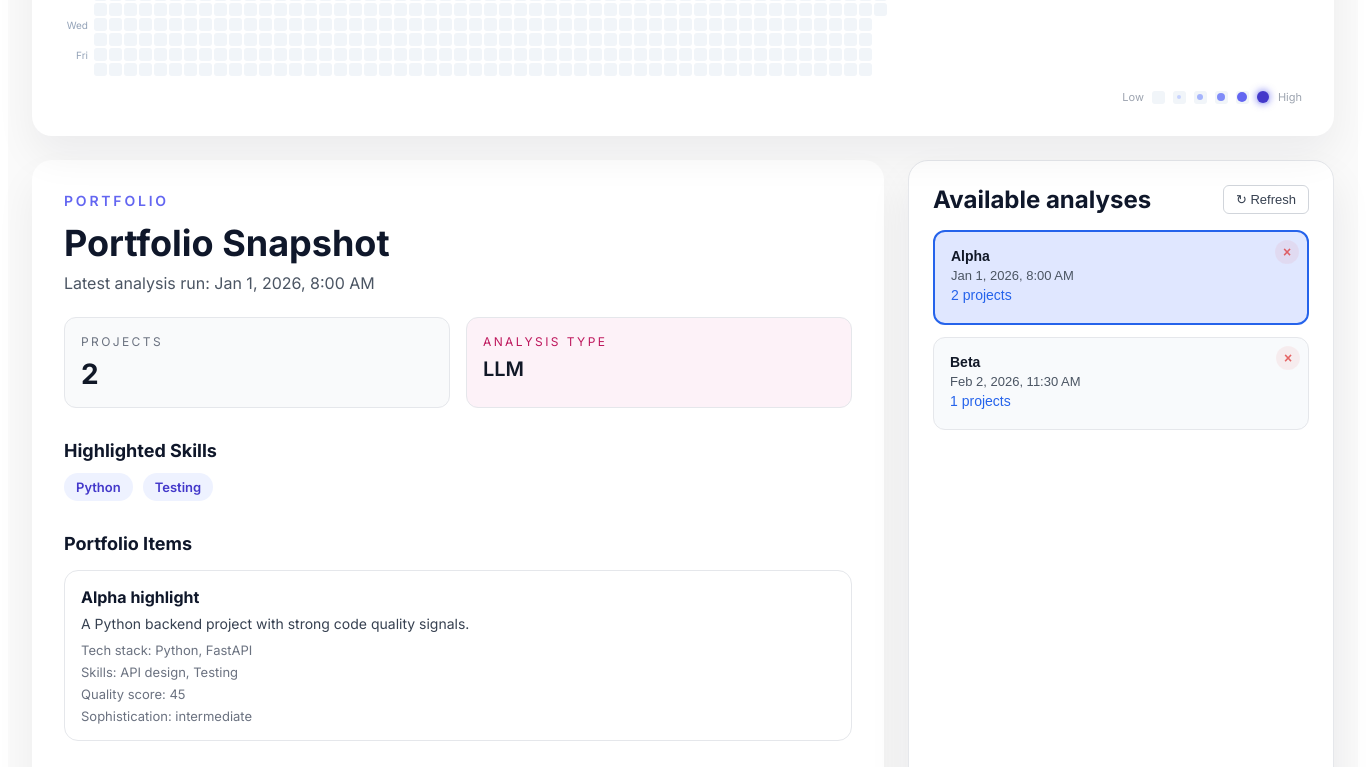
Test: Portfolio page › loads detail for another portfolio when selected
(page scrolled)
Expected: the text "Alpha highlight" is shown, [81, 587, 199, 607]
Step 1. Click the button with test id "portfolio-card-run-2" → (965, 362), box [934, 338, 1308, 429]
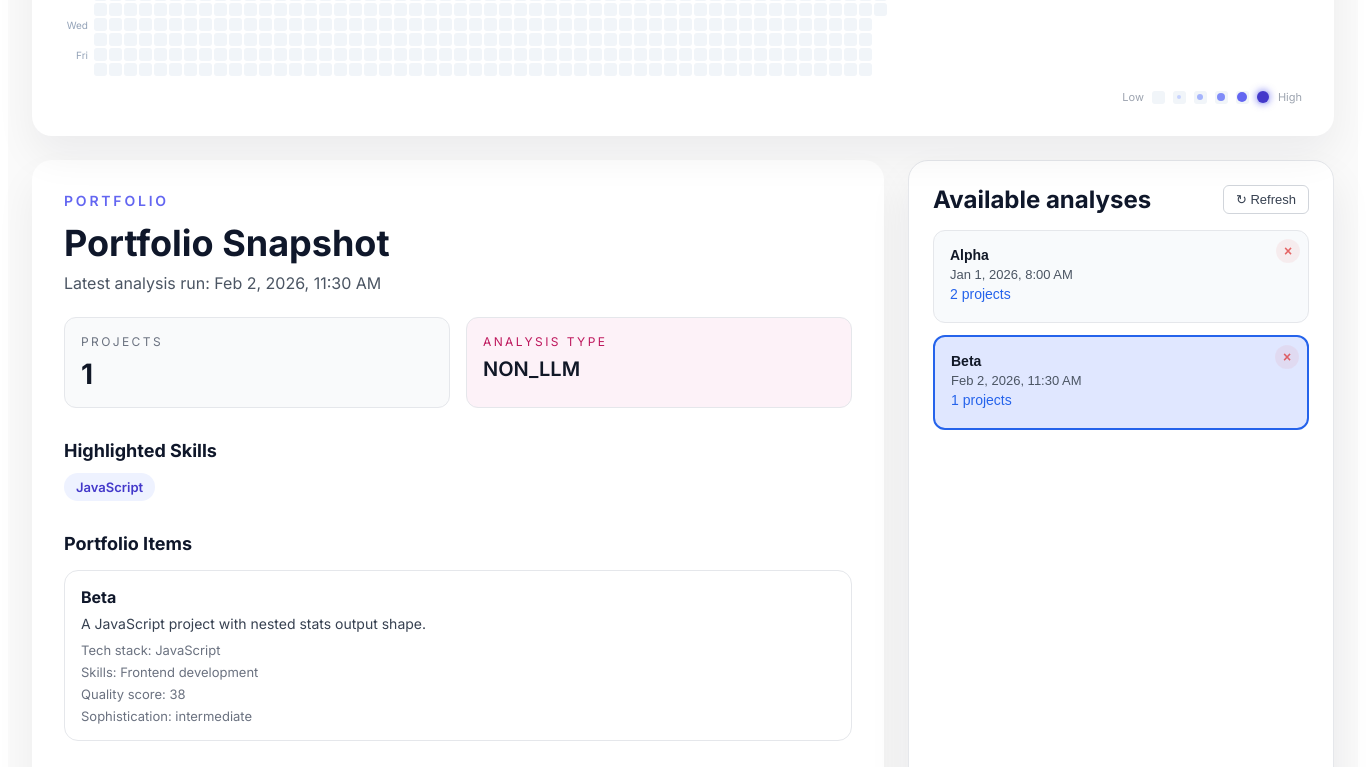
Expected: the text "Sophistication: intermediate" is shown, [81, 708, 252, 724]
Expected: the text "A JavaScript project with nested stats output shape." is shown, [81, 615, 426, 632]
Expected: the text "Quality score: 38" is shown, [81, 686, 186, 702]
